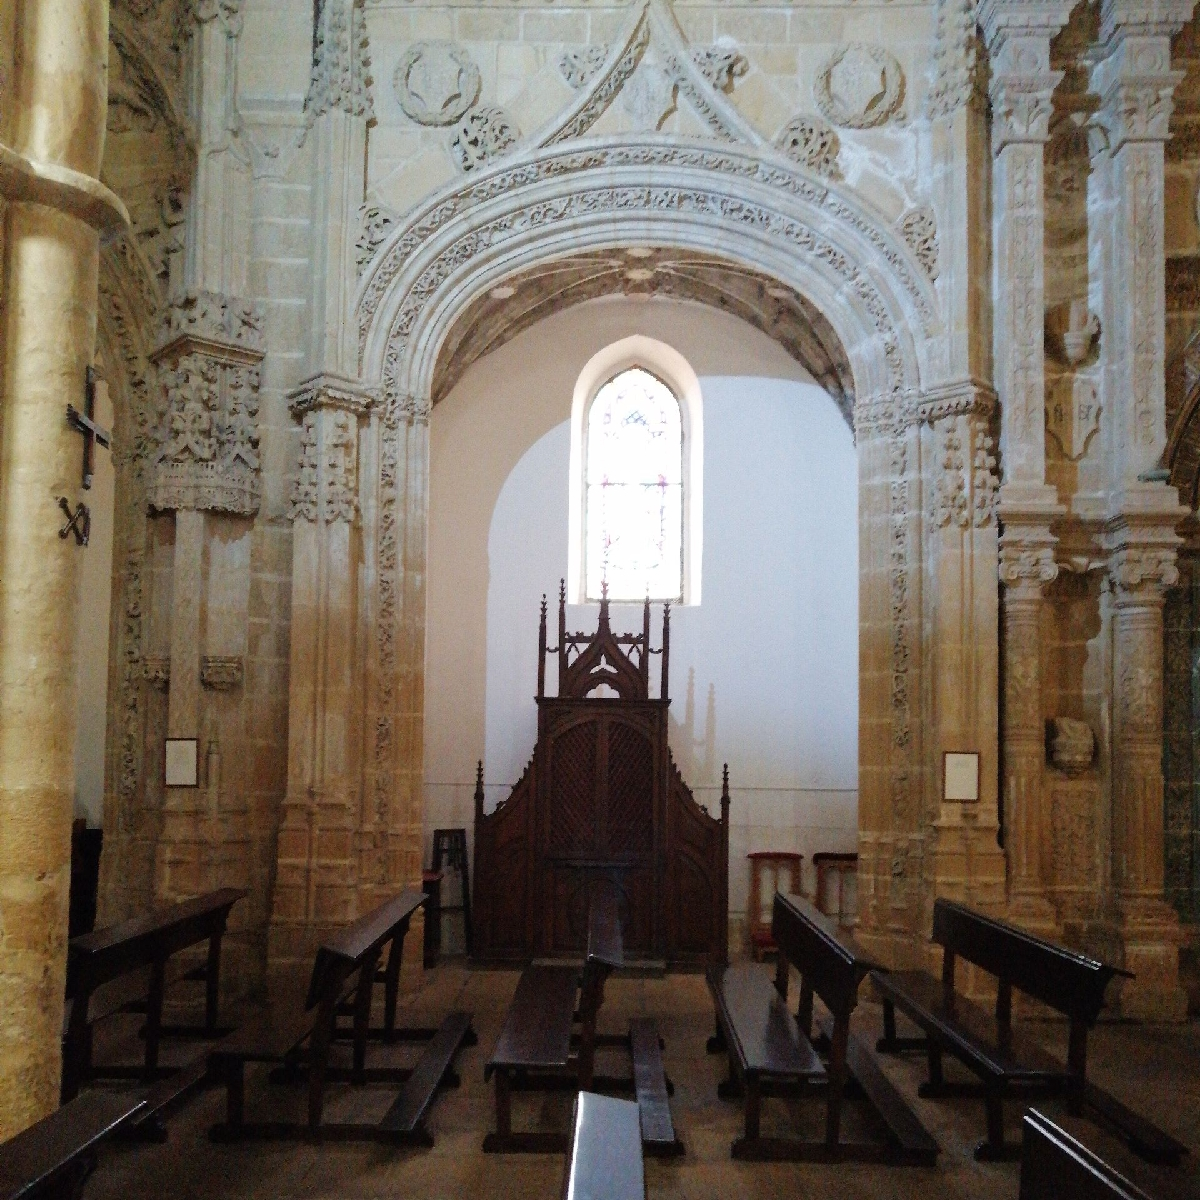arco-conopial: (402, 1, 898, 234)
